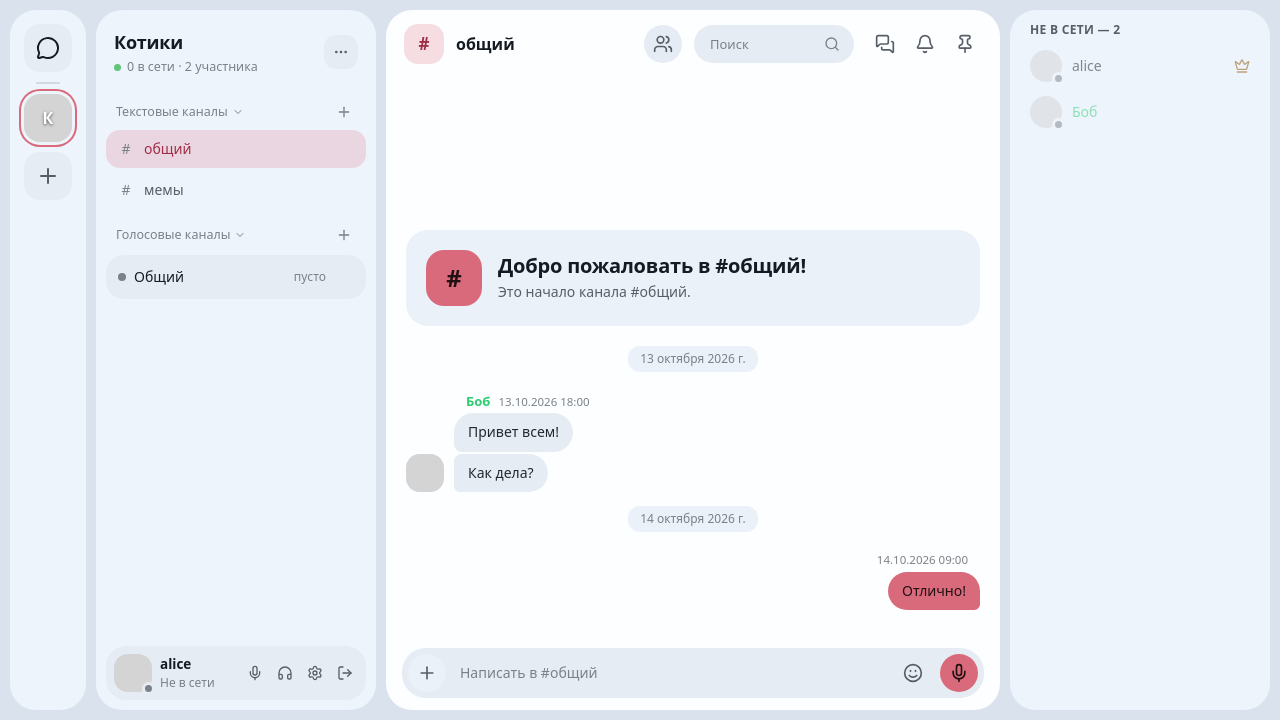
Test: mention suggestions › find people by username too, and roles and @everyone for those allowed
Type "@" into the text box named "Сообщение в #общий" at (670, 673), box x1=454 y1=654 x2=886 y2=692
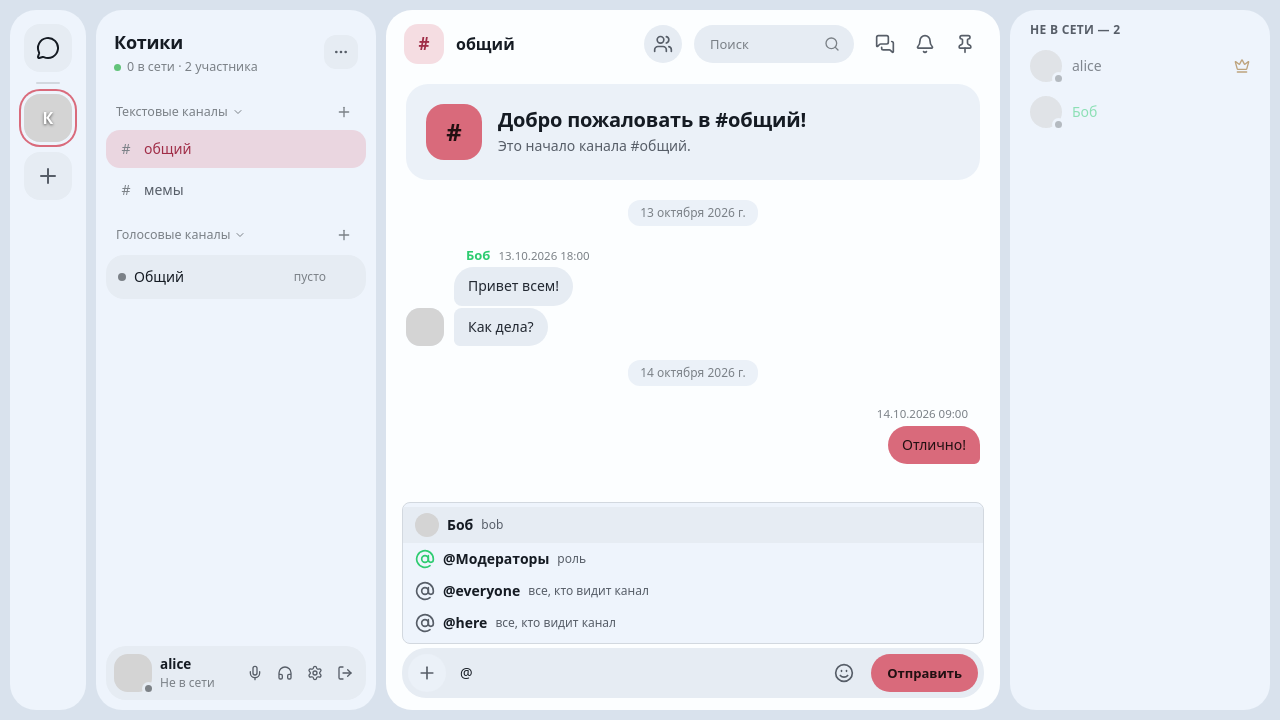
Check: the option "@Модераторы роль" is shown, box x1=415 y1=549 x2=586 y2=569
Check: the option "@everyone все, кто видит канал" is shown, box x1=415 y1=581 x2=649 y2=601
Type "bo" into the text box named "Сообщение в #общий" at (636, 673), box x1=454 y1=654 x2=817 y2=692
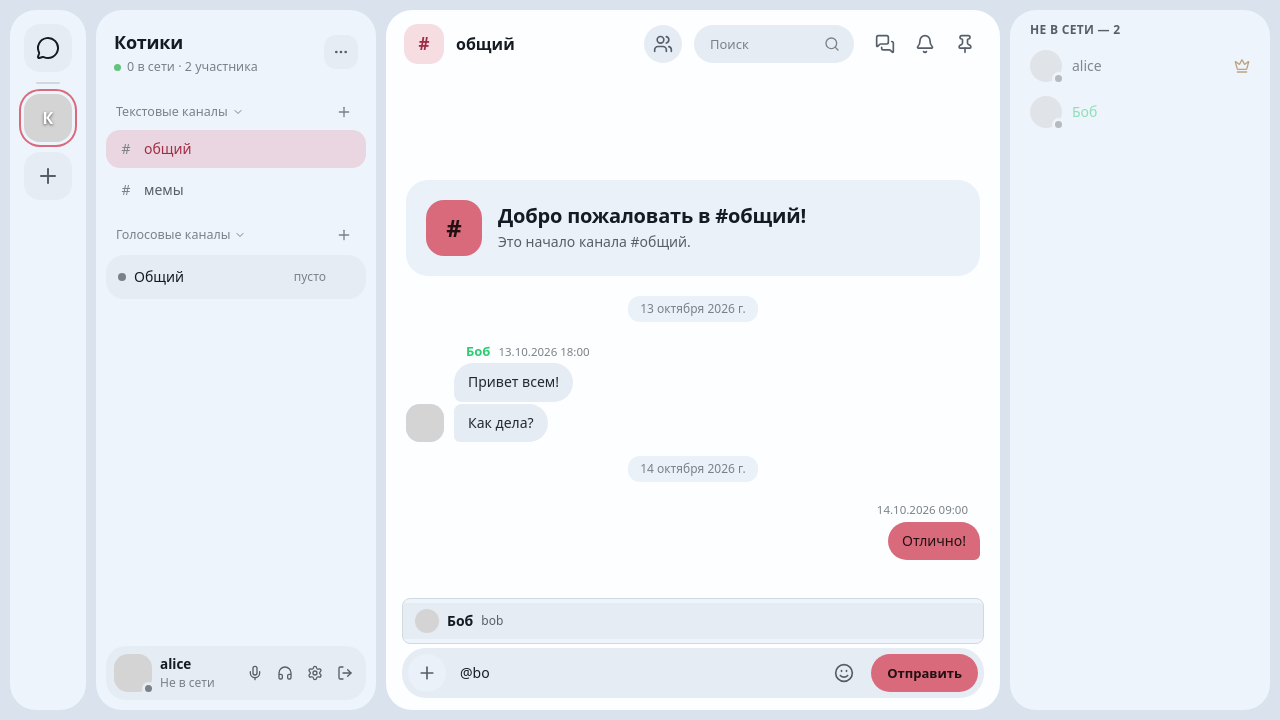
Check: the number of options is 1, box x1=403 y1=603 x2=983 y2=639
Press Escape
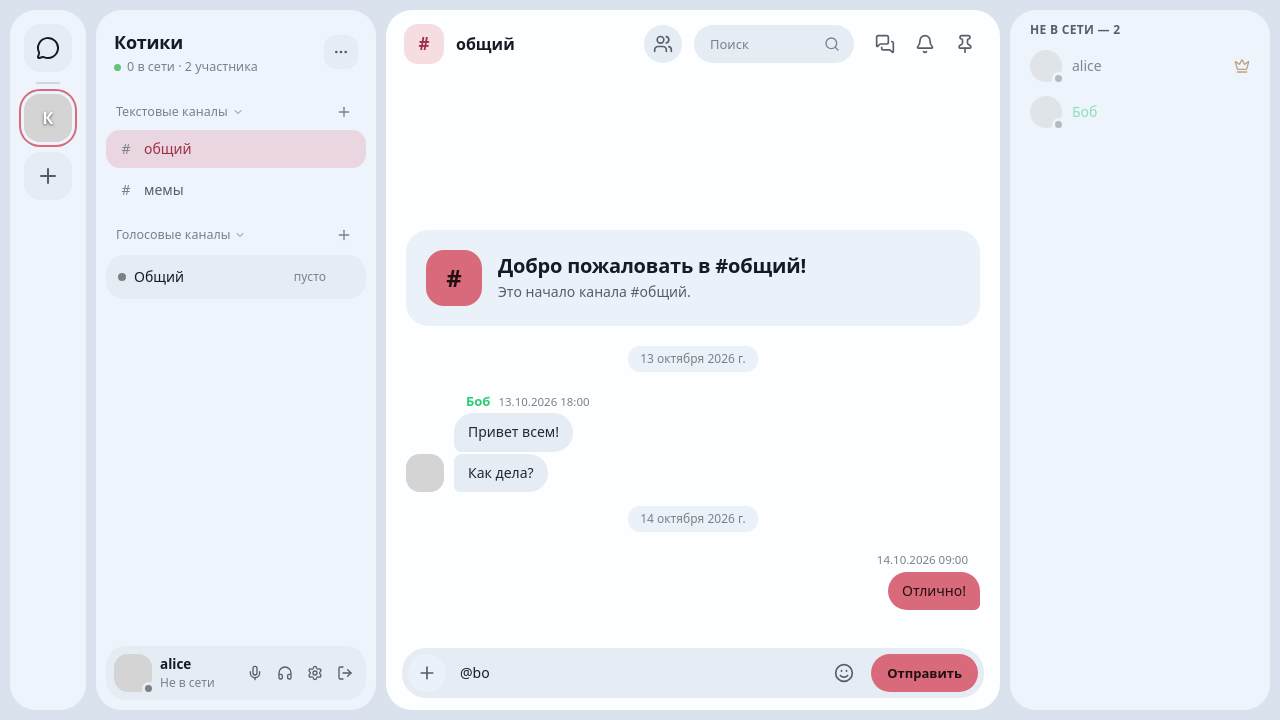
Check: the text box named "Сообщение в #общий" holds "@bo", box x1=454 y1=654 x2=817 y2=692
Check: the list "Упоминания" is gone
